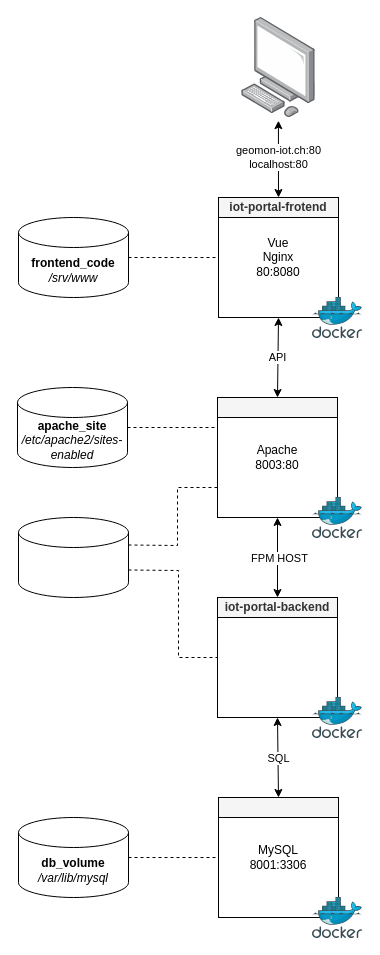
Image size: 380x955. Some labels were removed from this diagram. Each missing label, with the box of its shape:
backend_code / srv/www: (18, 516, 128, 598)
iot-portal-database: (218, 796, 338, 818)
Laraval Php - FPM 9000: (216, 596, 338, 718)
web: (216, 396, 338, 418)
